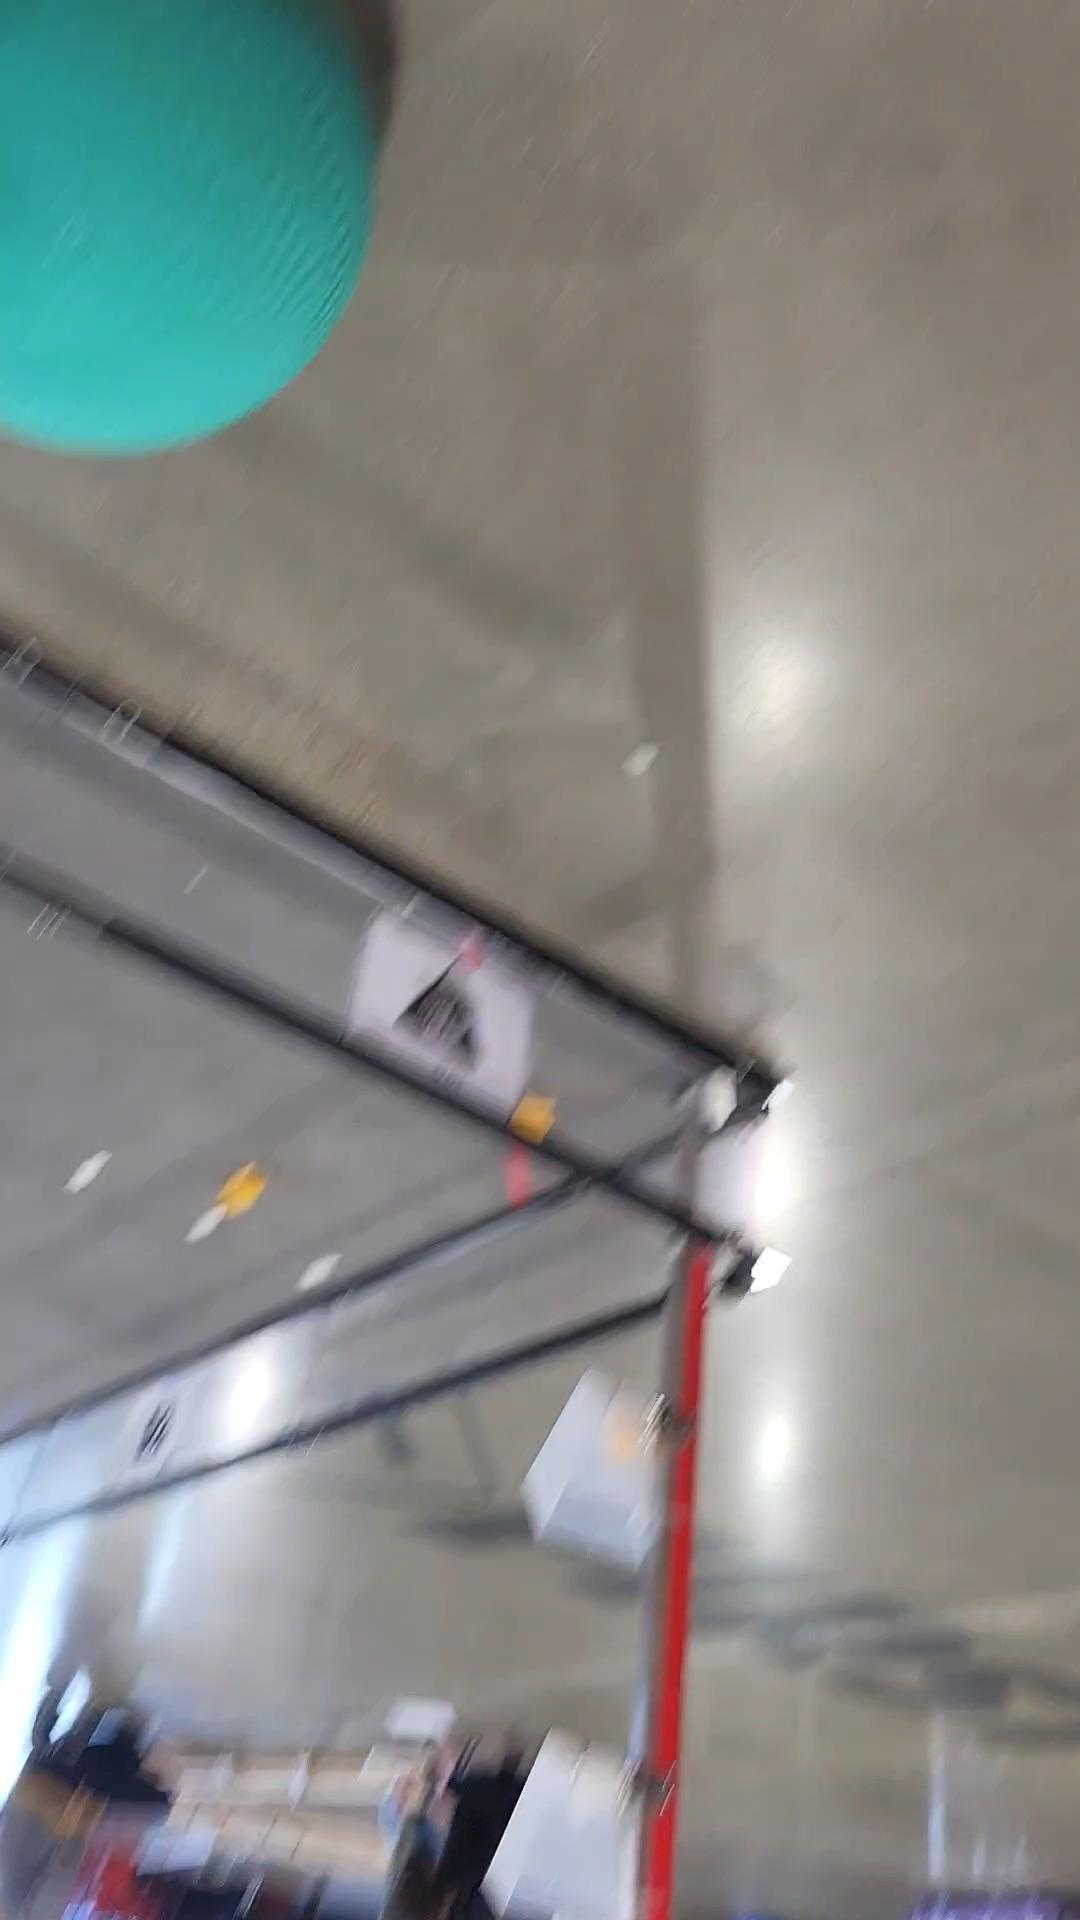algae: (0, 0, 378, 462)
